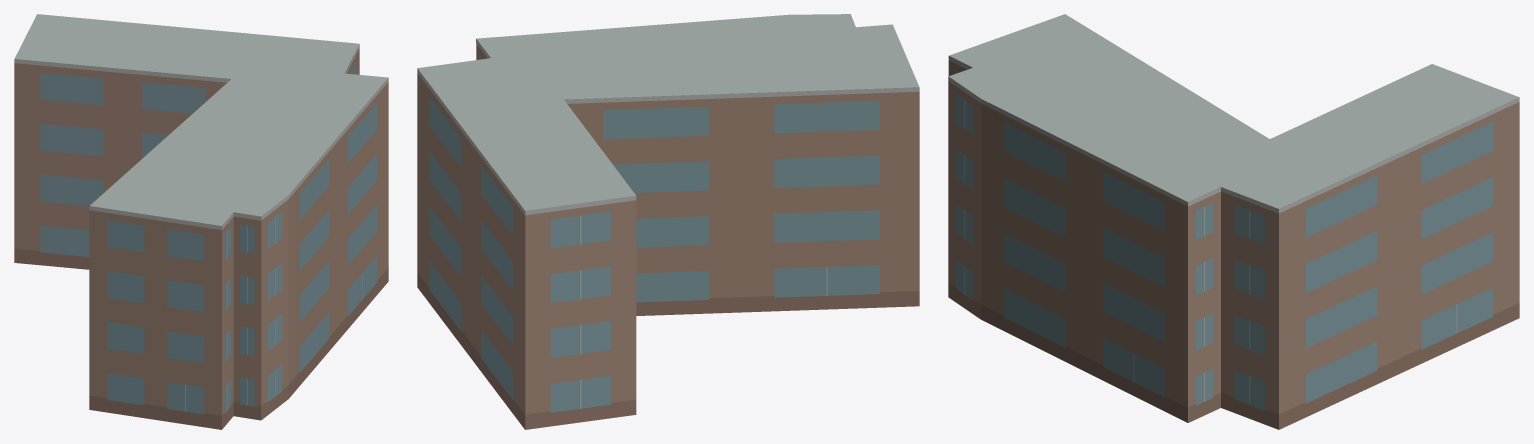
File: survey-upis-32979502.glb
3 renders of one model, left to right at view 1: azimuth 30°, elevation 25°; view 2: azimuth 150°, elevation 25°; view 3: azimuth 270°, elevation 25°, orthographic. The views are drawn at different scales.
Parts seen in each view (by area): view 1: survey-upis-32979502.tmp; view 2: survey-upis-32979502.tmp; view 3: survey-upis-32979502.tmp.
Part boxes in pixels (bbox=[...]): survey-upis-32979502.tmp: bbox=[14, 14, 388, 429]; survey-upis-32979502.tmp: bbox=[417, 14, 919, 429]; survey-upis-32979502.tmp: bbox=[948, 14, 1519, 429].
Size of the model in its own units: 22.52 by 11.89 by 27.87.
